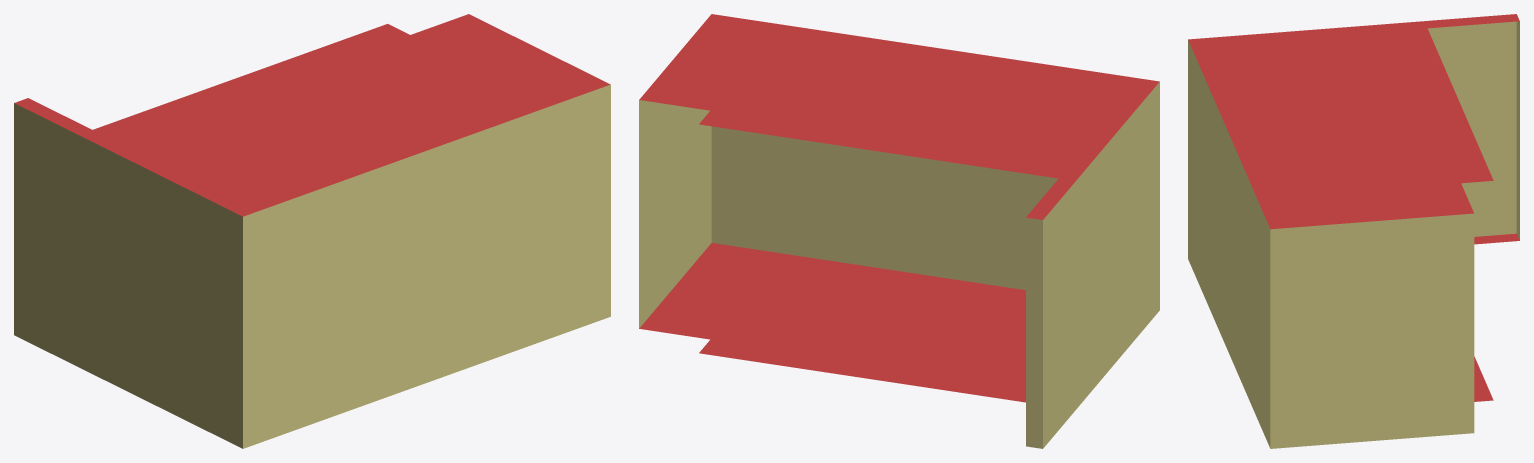
3 views of the same model, side by side, from view 1: azimuth 30°, elevation 25°; view 2: azimuth 150°, elevation 25°; view 3: azimuth 270°, elevation 25° (orthographic). The views are drawn at different scales.
Size of the model in its own units: 14.35 by 9.35 by 6.83.
